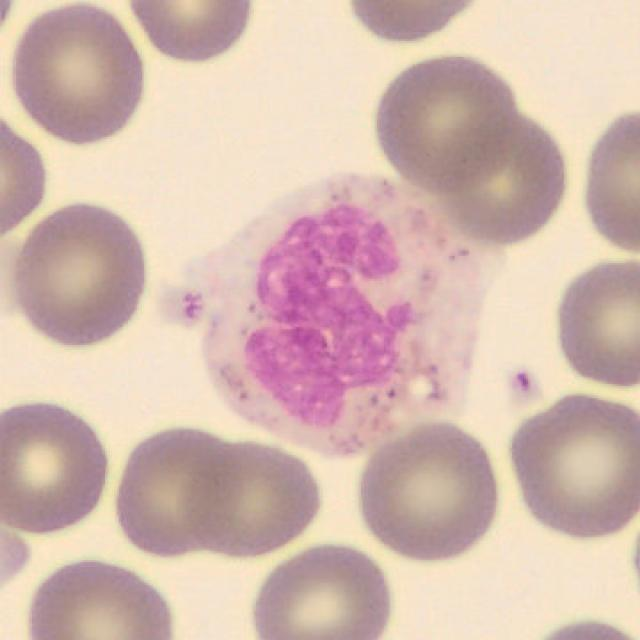Neutrofilo segmentado: (199, 172, 505, 462)
